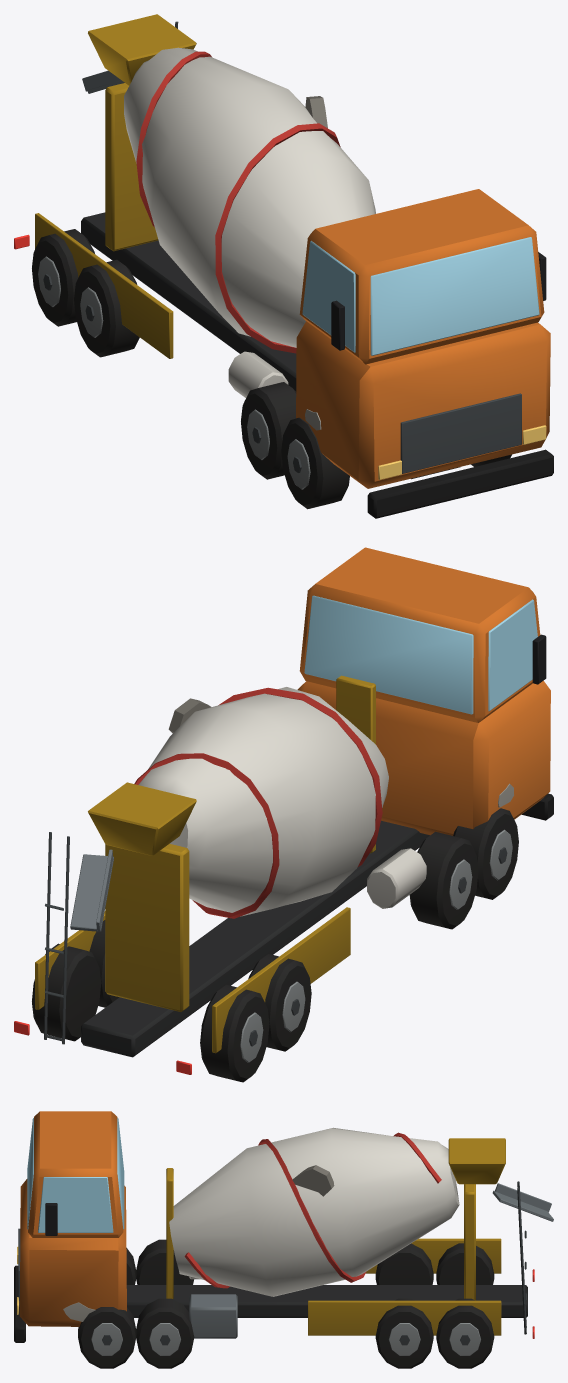
The model's file is 45_camion_toupie.fbx.
3 renders of one model, top to bottom at view 1: azimuth 30°, elevation 25°; view 2: azimuth 150°, elevation 25°; view 3: azimuth 270°, elevation 25°, orthographic. The views are drawn at different scales.
Parts seen in each view (by area): view 1: Toupie, Cabine, Chassis, Vitres, Goulotte, Roue_Ar1D, Roue_Av2D, Roue_AvD, Roue_Ar2D, Phares; view 2: Toupie, Chassis, Cabine, Vitres, Goulotte, Roue_Av2D, Roue_Ar2D, Roue_Ar2G, Roue_Ar1D, Roue_AvD, Roue_Ar1G; view 3: Toupie, Chassis, Cabine, Vitres, Goulotte, Roue_Av2G, Roue_Ar2G, Roue_Ar1G, Roue_AvG, Roue_Ar1D, Roue_Ar2D, Roue_Av2D.
Part boxes in pixels (bbox=[...]): Toupie: bbox=[124, 47, 375, 353]; Cabine: bbox=[296, 189, 550, 488]; Chassis: bbox=[35, 21, 553, 518]; Vitres: bbox=[302, 237, 539, 355]; Goulotte: bbox=[82, 14, 196, 93]; Roue_Ar1D: bbox=[74, 259, 139, 357]; Roue_Av2D: bbox=[241, 382, 296, 479]; Roue_AvD: bbox=[281, 417, 349, 509]; Roue_Ar2D: bbox=[32, 229, 94, 326]; Phares: bbox=[378, 425, 546, 479]; Toupie: bbox=[134, 687, 388, 918]; Chassis: bbox=[35, 675, 553, 1057]; Cabine: bbox=[297, 547, 550, 835]; Vitres: bbox=[304, 595, 537, 714]; Goulotte: bbox=[70, 782, 196, 931]; Roue_Av2D: bbox=[409, 831, 478, 929]; Roue_Ar2D: bbox=[200, 984, 269, 1082]; Roue_Ar2G: bbox=[32, 943, 101, 1041]; Roue_Ar1D: bbox=[248, 954, 311, 1051]; Roue_AvD: bbox=[453, 808, 518, 899]; Roue_Ar1G: bbox=[89, 920, 119, 1007]; Toupie: bbox=[169, 1127, 459, 1296]; Chassis: bbox=[14, 1168, 527, 1342]; Cabine: bbox=[18, 1111, 126, 1326]; Vitres: bbox=[27, 1118, 124, 1232]; Goulotte: bbox=[448, 1138, 553, 1221]; Roue_Av2G: bbox=[136, 1298, 194, 1368]; Roue_Ar2G: bbox=[436, 1298, 494, 1368]; Roue_Ar1G: bbox=[375, 1298, 433, 1368]; Roue_AvG: bbox=[78, 1307, 136, 1368]; Roue_Ar1D: bbox=[375, 1243, 433, 1284]; Roue_Ar2D: bbox=[436, 1243, 494, 1284]; Roue_Av2D: bbox=[136, 1239, 193, 1284].
Size of the model in its own units: 1.96 by 2.52 by 6.16.
1 material, 1 textured.
